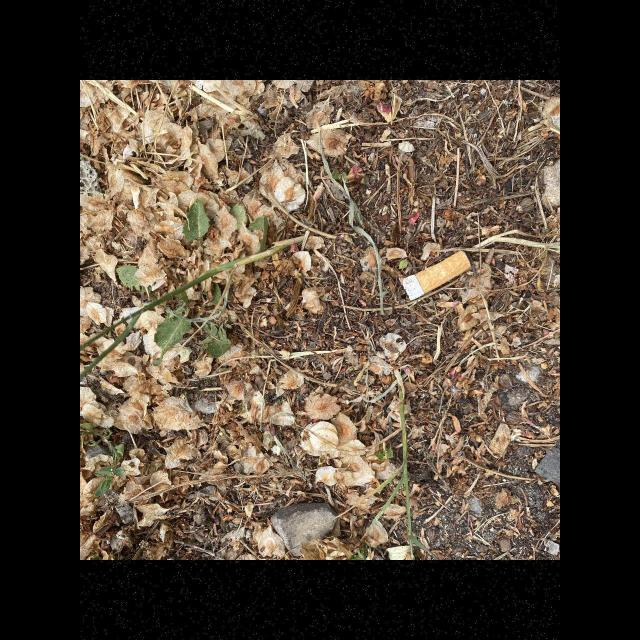cigarette: (402, 250, 471, 301)
